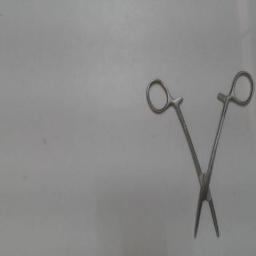Mayo Needle Holder: (143, 69, 255, 247)
